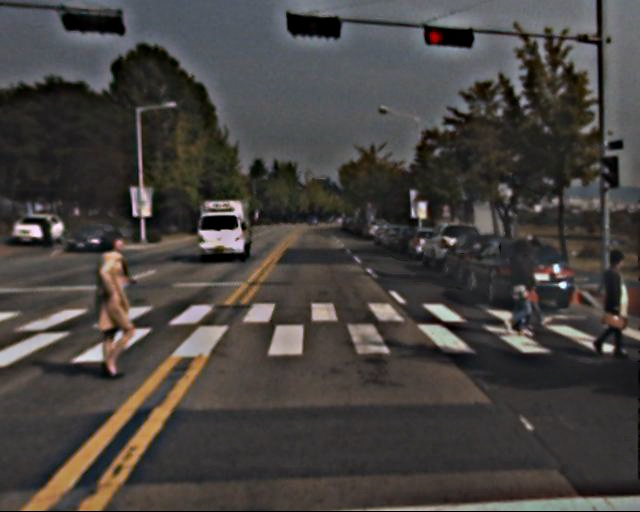person: (81, 232, 142, 380), (589, 248, 634, 358), (502, 240, 541, 336), (42, 216, 54, 245)
